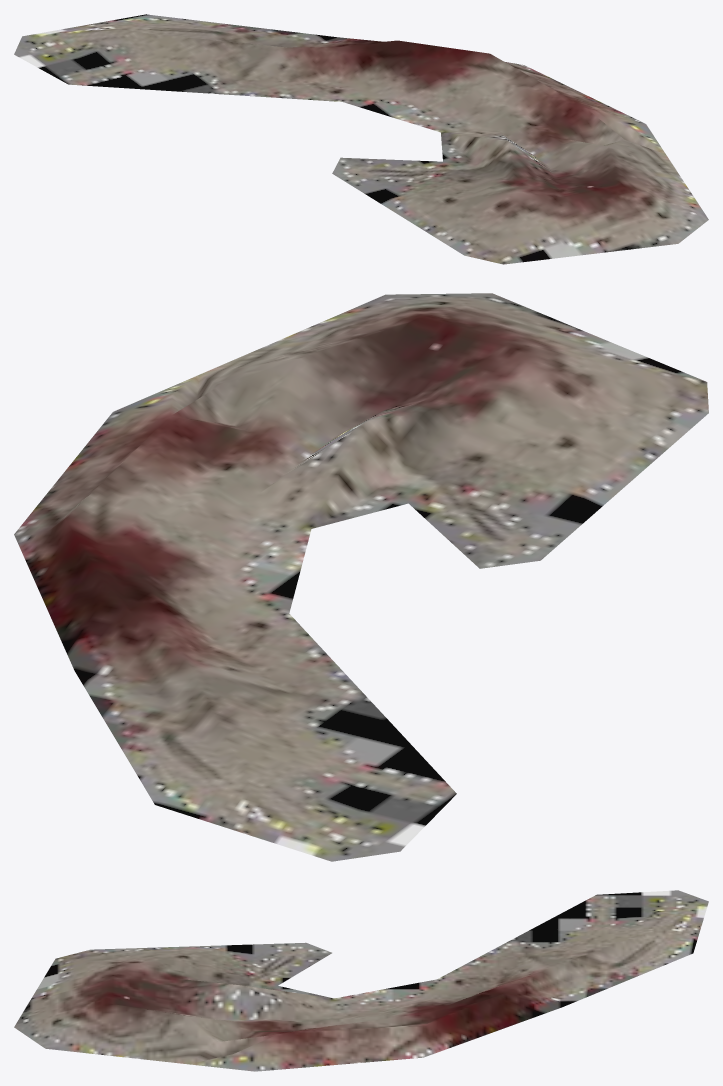
Rendered from bloody_rags_e.glb.
3 views of the same model, one above another, from view 1: azimuth 30°, elevation 25°; view 2: azimuth 150°, elevation 25°; view 3: azimuth 270°, elevation 25° (orthographic). The views are drawn at different scales.
Visible parts, largest first — view 1: bloody_rags_e; view 2: bloody_rags_e; view 3: bloody_rags_e.
Part boxes in pixels (x1,y1,x2,y2): bloody_rags_e: (14,14,708,264); bloody_rags_e: (14,293,708,861); bloody_rags_e: (14,890,708,1071).
Bounding box in the file's own units: 0.7773 × 0.048 × 1.26.
Materials: 1 (1 with a texture image).
